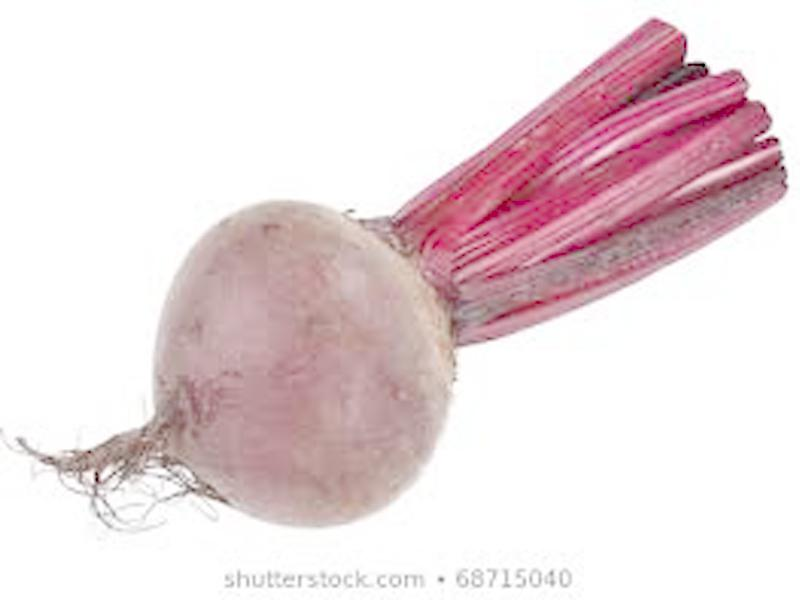Beet: (15, 22, 788, 525)
